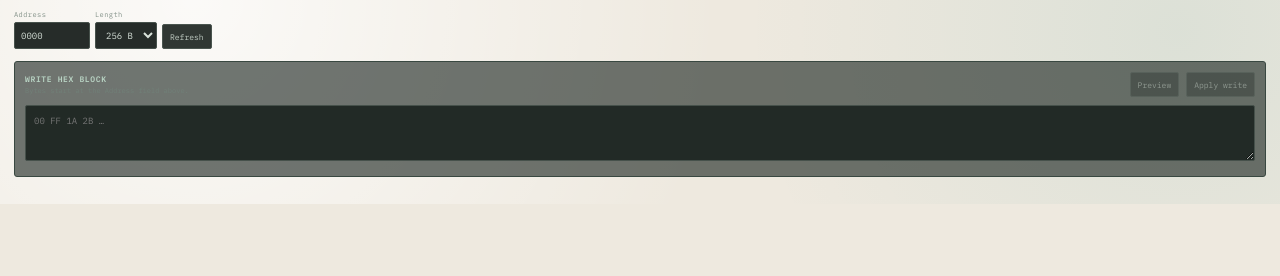
Scenario: bulk memory editing › requires a fresh preview after the address changes
Type "01 02" into the text box named "Hex bytes" at (640,133), box left=25, top=105, right=1255, bottom=161
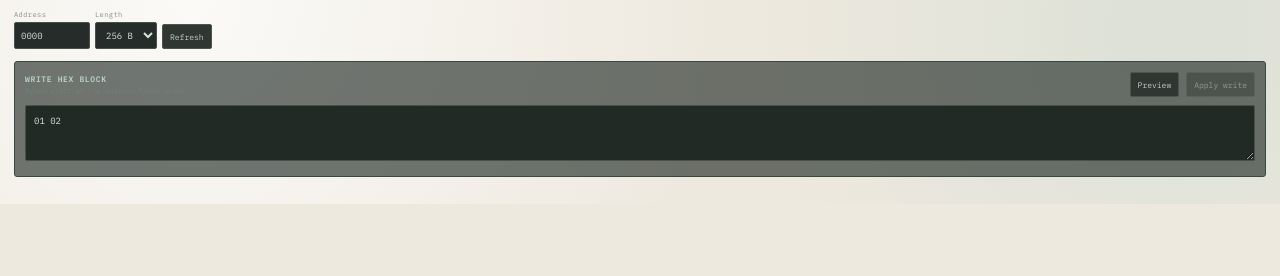
Click the button "Preview" at (1154,84), box left=1130, top=72, right=1179, bottom=97
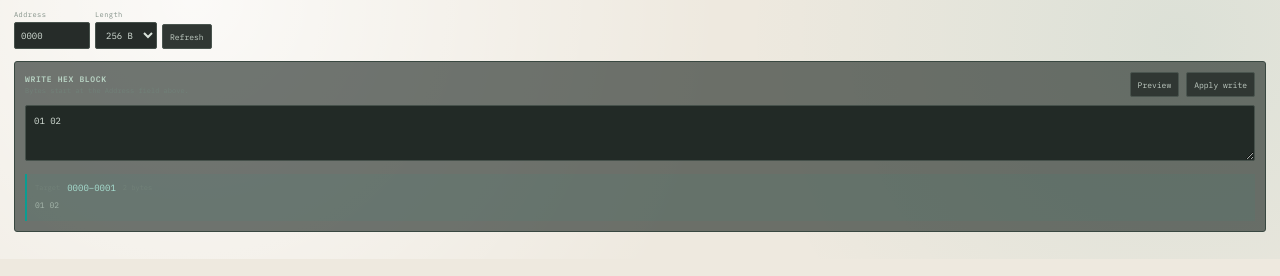
Replace the text in the field labelled "Address" with "0100" at (52,36), box left=14, top=22, right=90, bottom=49
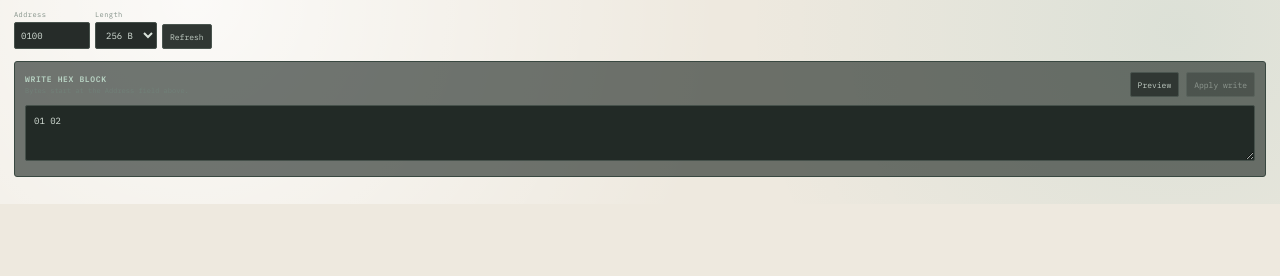
Expected: the button "Apply write" is disabled, left=1186, top=72, right=1255, bottom=97
